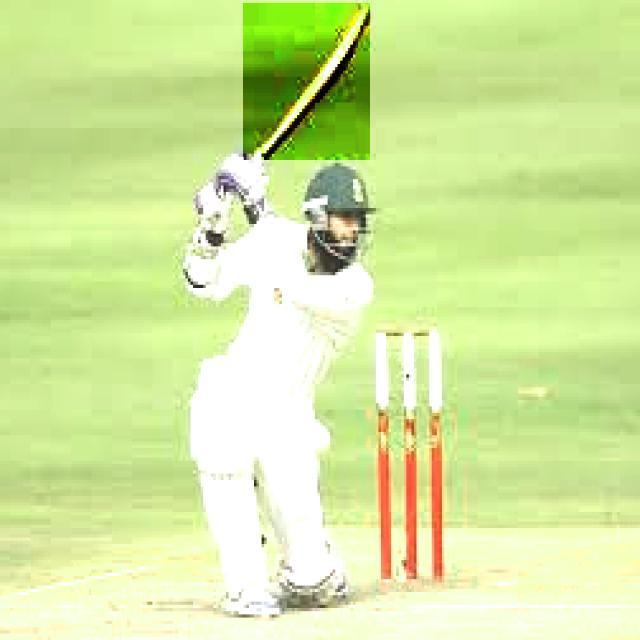bat: (242, 0, 370, 160)
toe: (350, 3, 370, 24)
